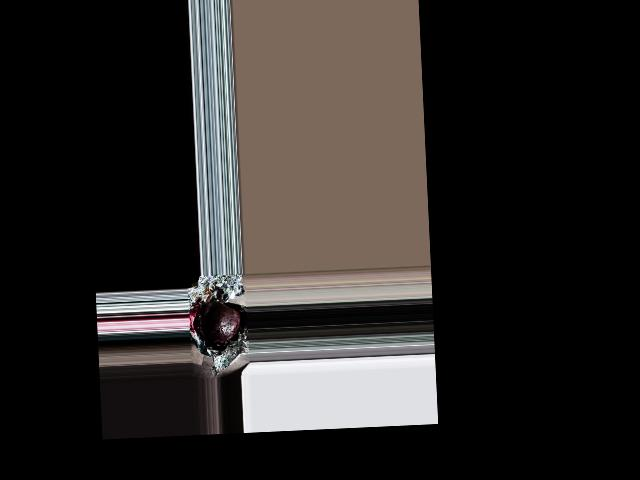beet: (200, 299, 241, 343)
